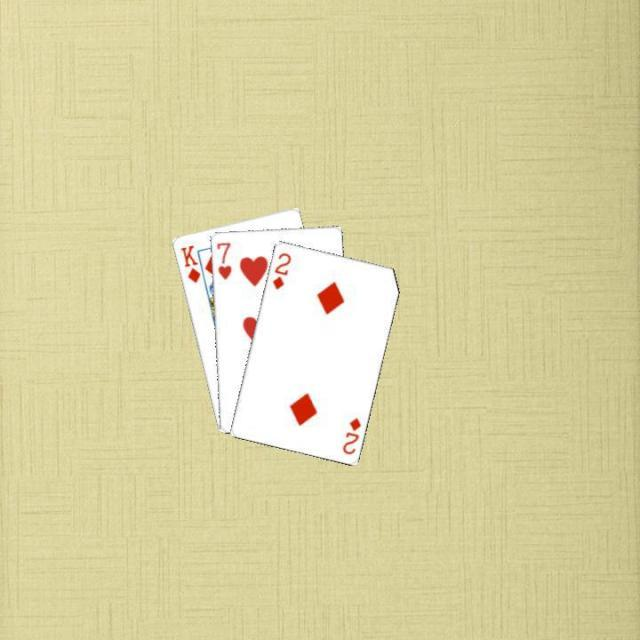2D: (269, 249, 293, 291), (339, 413, 363, 455)
7H: (212, 238, 232, 280)
KD: (177, 241, 202, 285)
